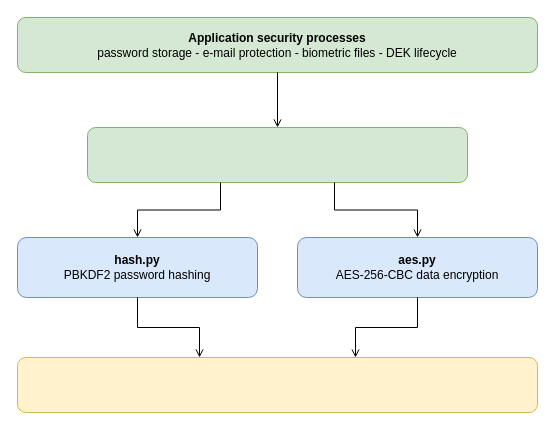
The diagram is 555 pixels wide and 430 high, and some of its shapes have lost their labels. Each missing label, with the box of its shape:
encryption.py high-level contexts (session-scoped, DEK): (86, 126, 468, 182)
rand.py random bytes for every salt, key and token: (16, 356, 538, 412)
